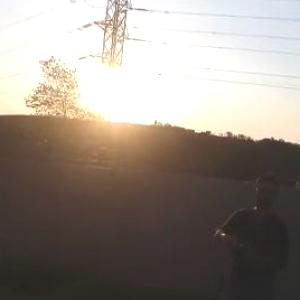follow: (206, 163, 295, 299)
